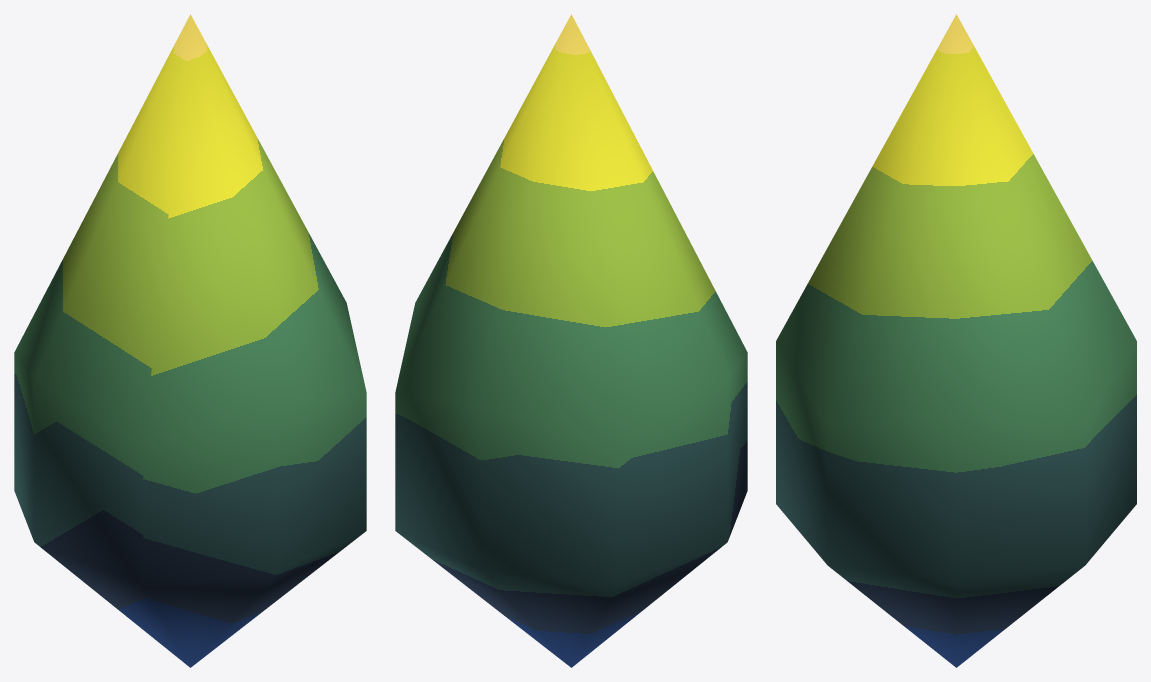
The model's file is Grass.fbx.
3 views of the same model, side by side, from view 1: azimuth 30°, elevation 25°; view 2: azimuth 150°, elevation 25°; view 3: azimuth 270°, elevation 25° (orthographic).
Parts seen in each view (by area): view 1: Grass; view 2: Grass; view 3: Grass.
Part boxes in pixels (left/top/right/bottom): Grass: left=14, top=14, right=366, bottom=667; Grass: left=395, top=14, right=747, bottom=667; Grass: left=776, top=14, right=1136, bottom=667.
Bounding box in the file's own units: 92.4 × 185 × 92.4.
